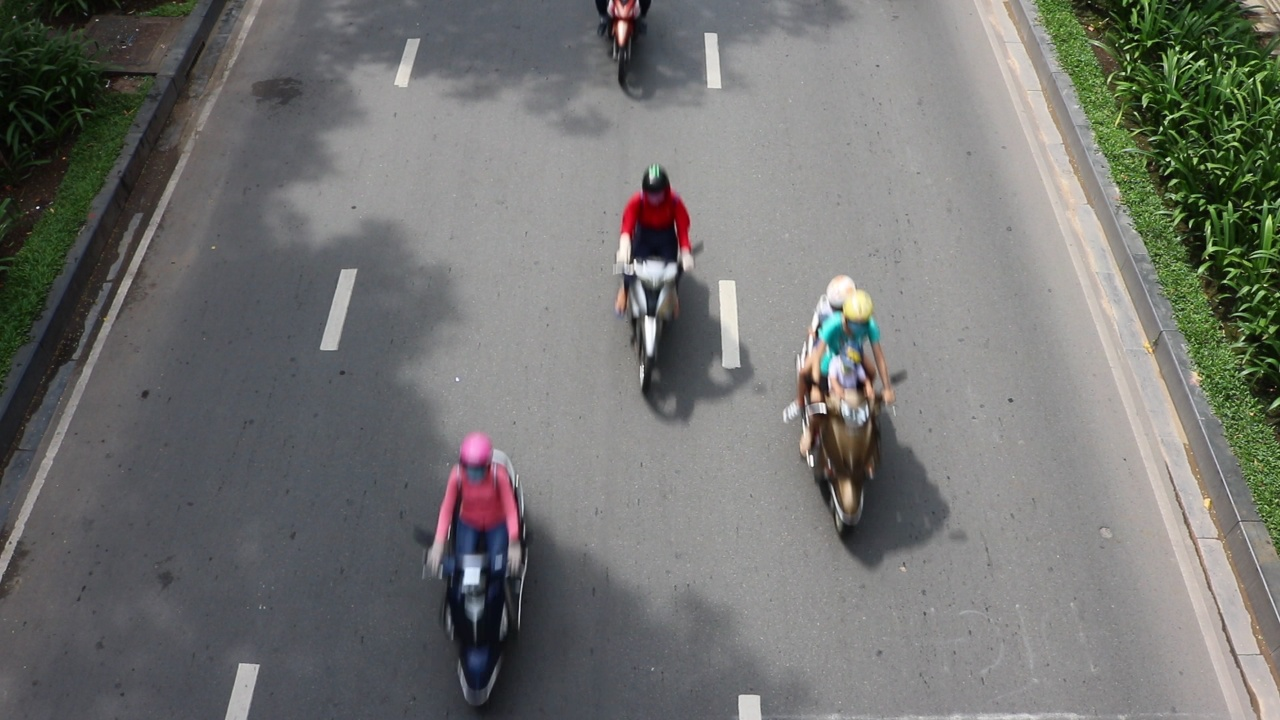motorcycle: (419, 521, 521, 707), (803, 375, 889, 535), (610, 253, 690, 400)
